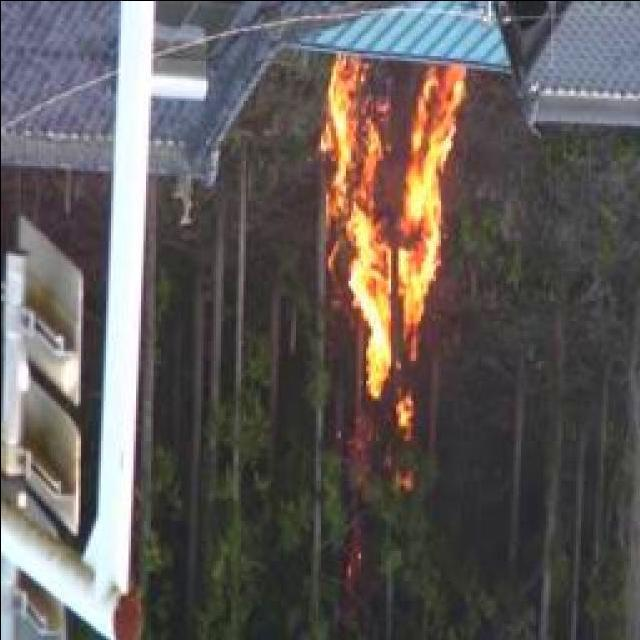Fire: (312, 65, 474, 437)
